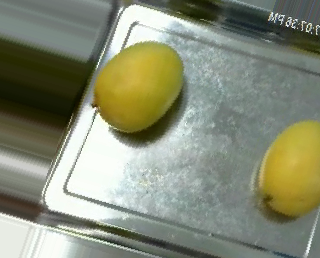Mango: (95, 43, 183, 130), (258, 121, 319, 218)
